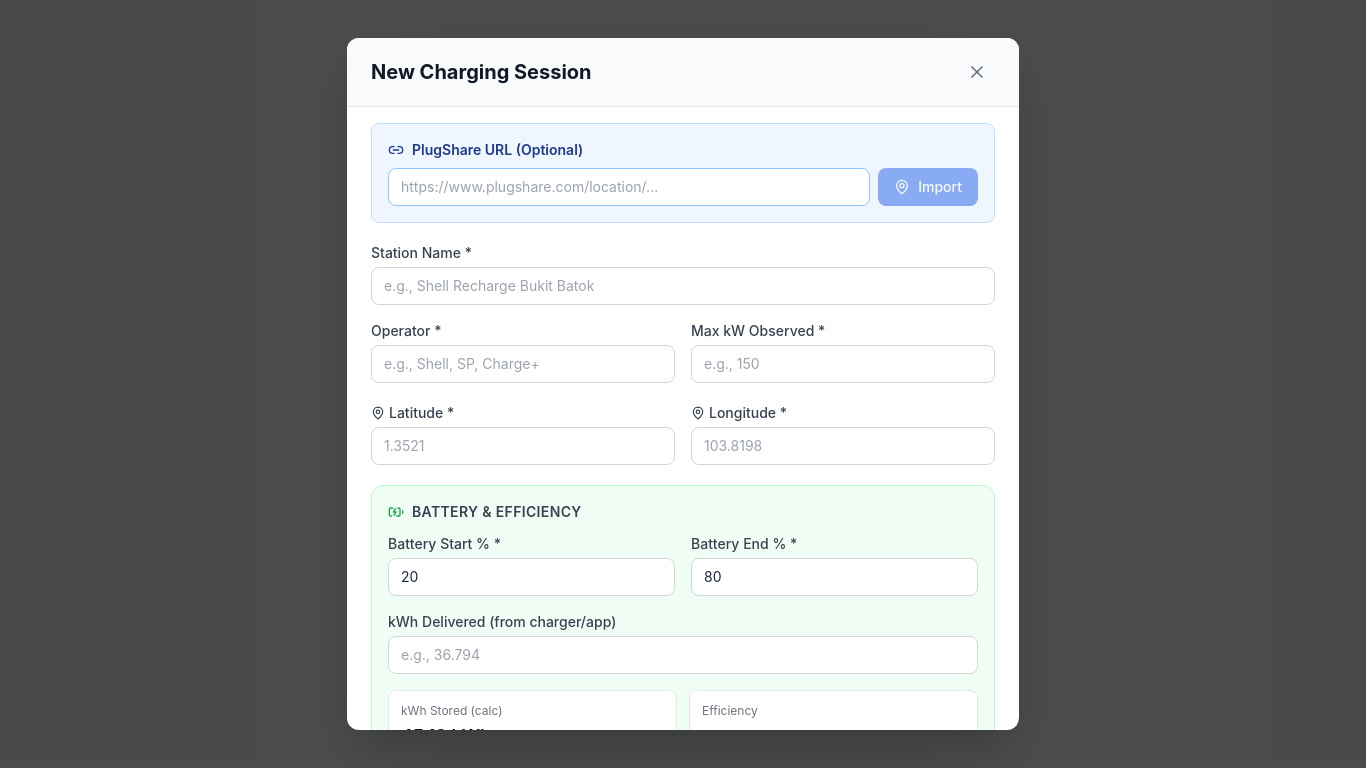
NewLogModal › Create Mode › PlugShare fetch shows error for invalid URL
This screenshot has width=1366, height=768.
Note: Enter invalid URL
Type "https://invalid-url.com" into the field with placeholder "https://www.plugshare.com/location/..." at {"x": 629, "y": 187}, box x1=388 y1=168 x2=870 y2=206
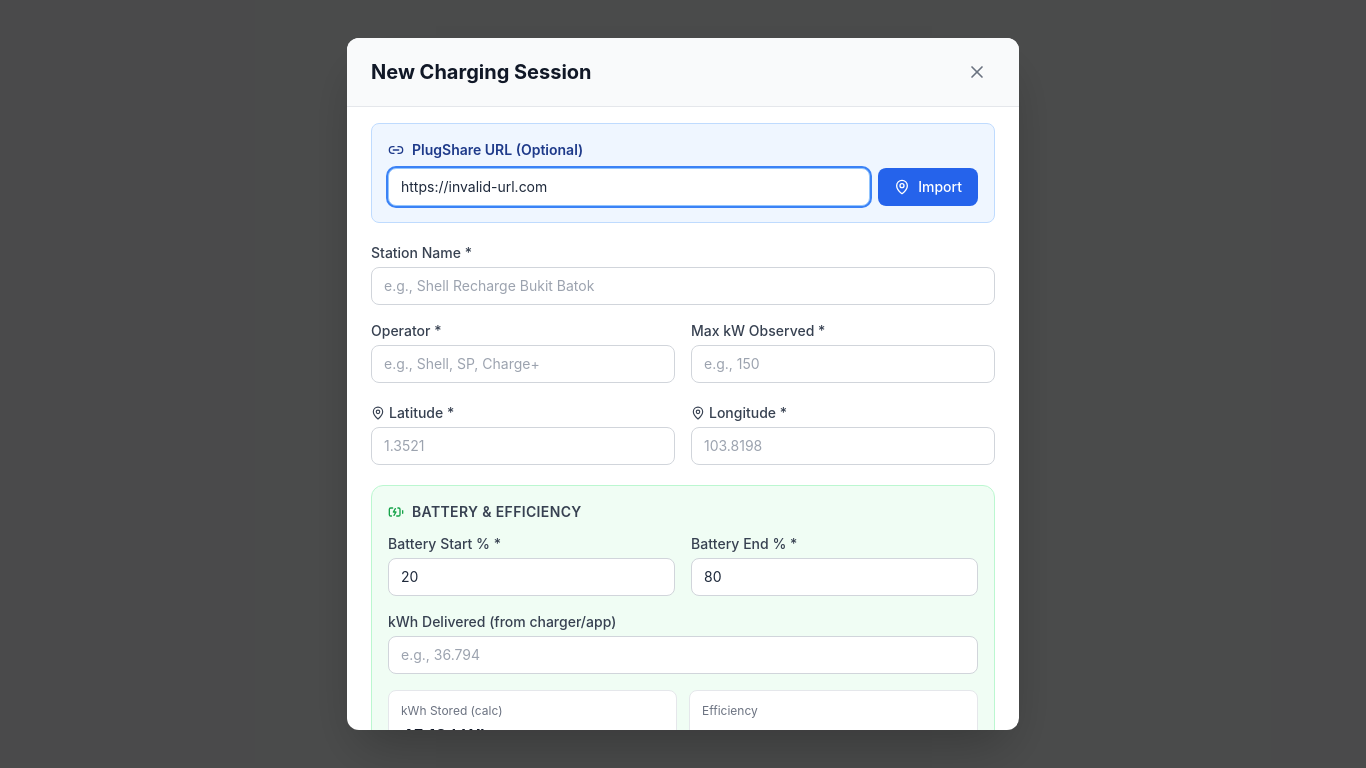
Note: Click import button
Click the button "Import" at {"x": 928, "y": 187}, box x1=878 y1=168 x2=978 y2=206
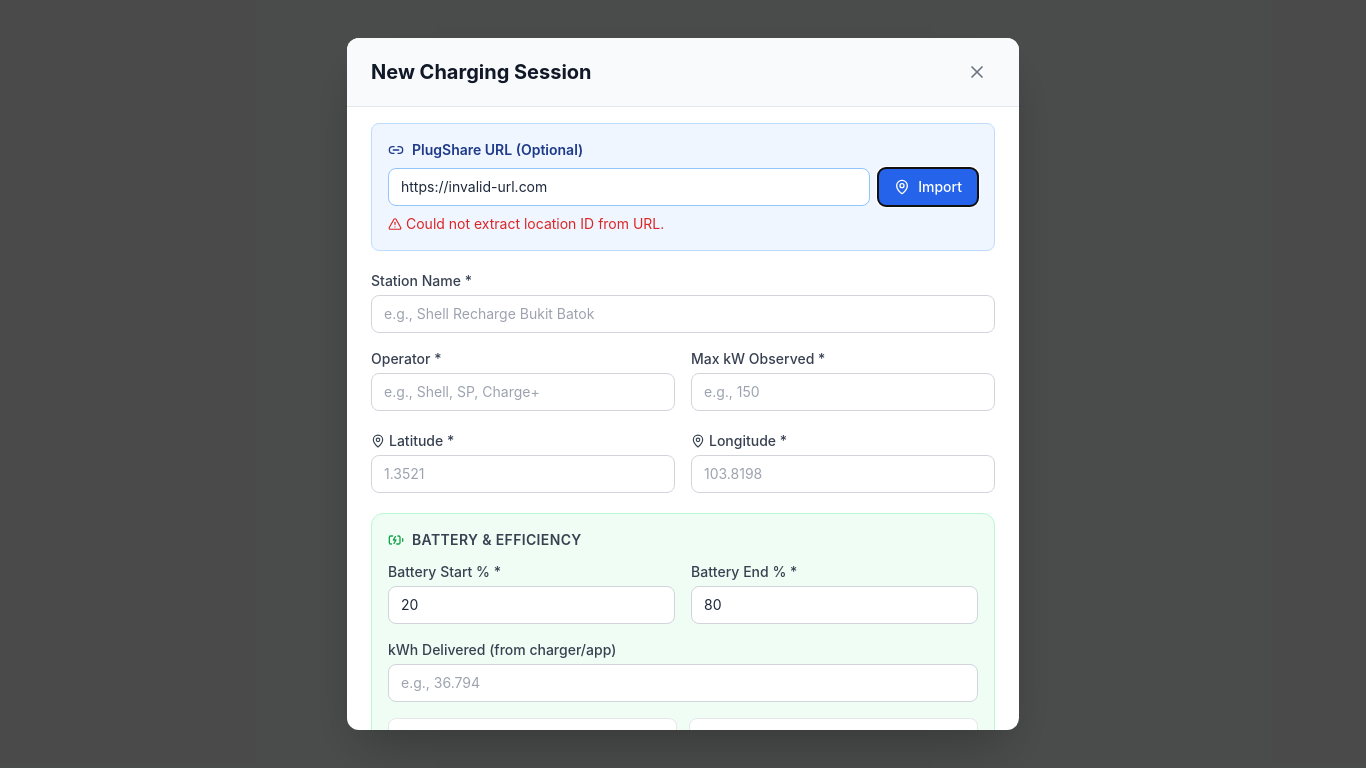
Expected: the text "Could not extract location ID from URL." is shown, x1=388 y1=215 x2=664 y2=232
